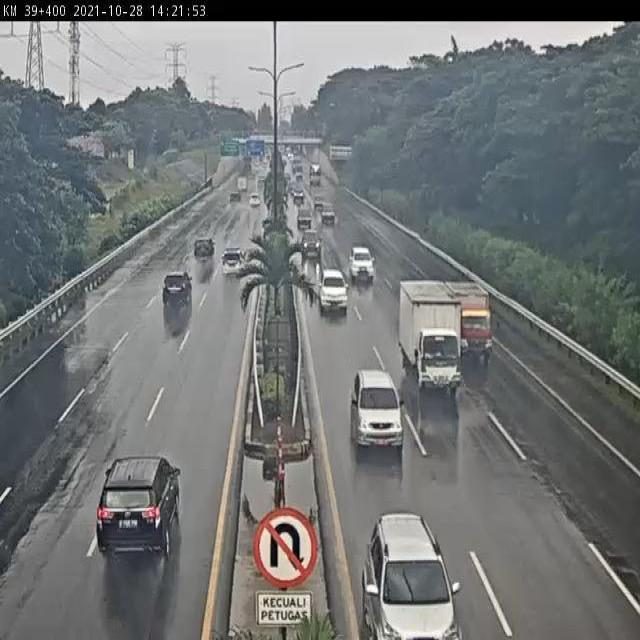car: (364, 509, 461, 640), (97, 456, 181, 556), (352, 371, 403, 448), (159, 272, 192, 312), (320, 268, 349, 313), (350, 245, 376, 280), (190, 236, 214, 264), (219, 252, 245, 277), (301, 228, 322, 255)
truck-m-: (398, 274, 461, 390)
truck-s-: (449, 281, 494, 360)
